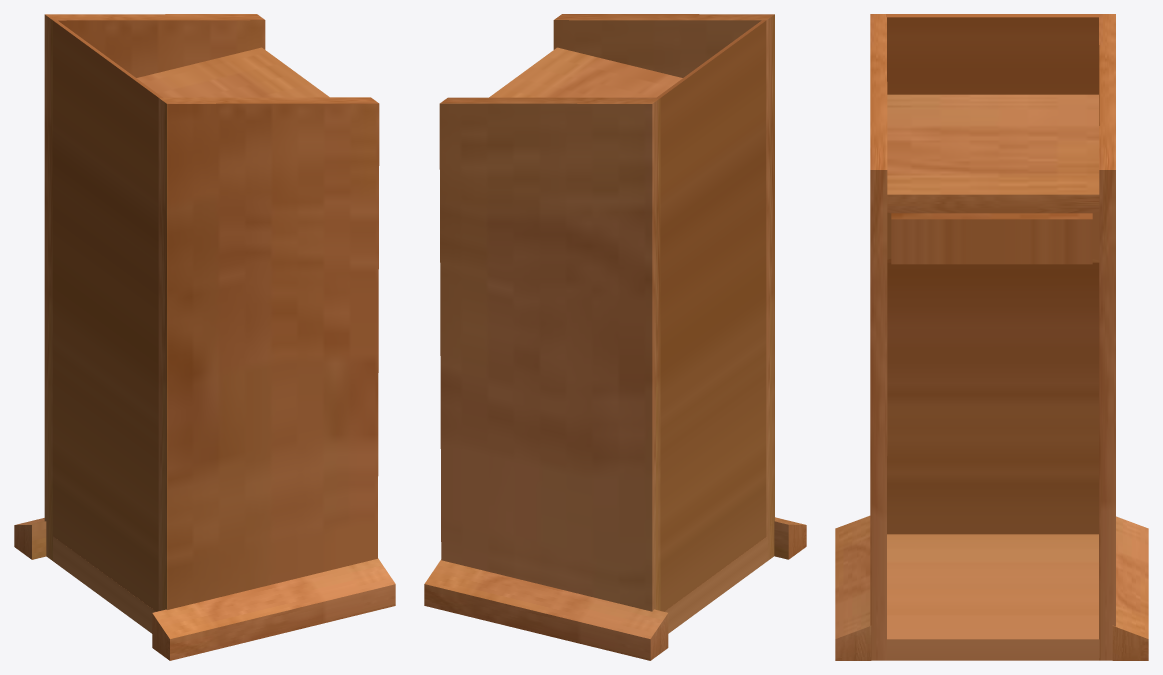
File: podium.fbx
3 renders of one model, left to right at view 1: azimuth 30°, elevation 25°; view 2: azimuth 150°, elevation 25°; view 3: azimuth 270°, elevation 25°, orthographic.
Visible parts, largest first — view 1: Cube.007; view 2: Cube.007; view 3: Cube.007.
Part boxes in pixels (left/top/right/bottom): Cube.007: left=14, top=14, right=395, bottom=660; Cube.007: left=424, top=14, right=806, bottom=660; Cube.007: left=835, top=14, right=1148, bottom=660.
Size of the model in its own units: 223 by 491 by 256.
2 materials, 2 textured.
